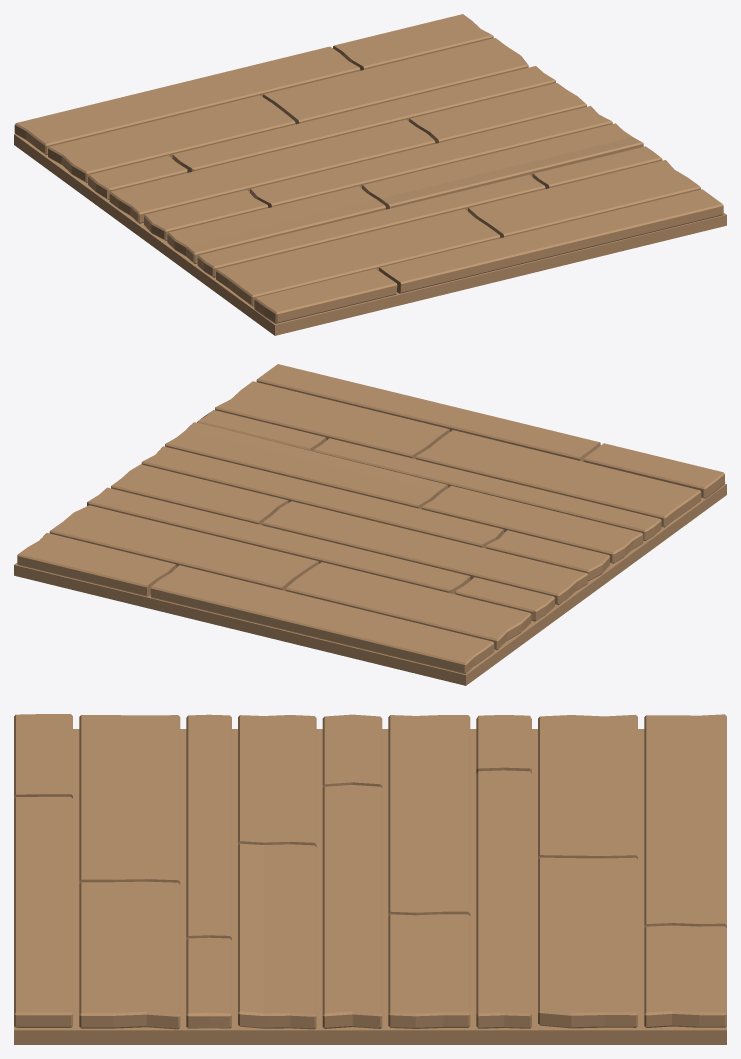
File: floor-b.glb
The picture shows the model from 3 angles, top to bottom: view 1: azimuth 30°, elevation 25°; view 2: azimuth 150°, elevation 25°; view 3: azimuth 270°, elevation 25°; orthographic projection. The views are drawn at different scales.
Parts seen in each view (by area): view 1: Floor B; view 2: Floor B; view 3: Floor B.
Boxes of the visible parts, x1,y1,x2,y2 form: Floor B: (14,14,726,335); Floor B: (14,364,726,685); Floor B: (14,714,726,1044).
Size of the model in its own units: 3.08 by 0.1537 by 3.08.
